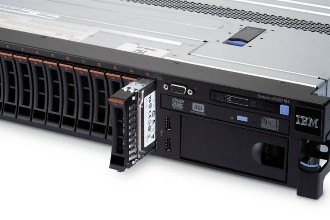ibm-server: (1, 27, 329, 206)
